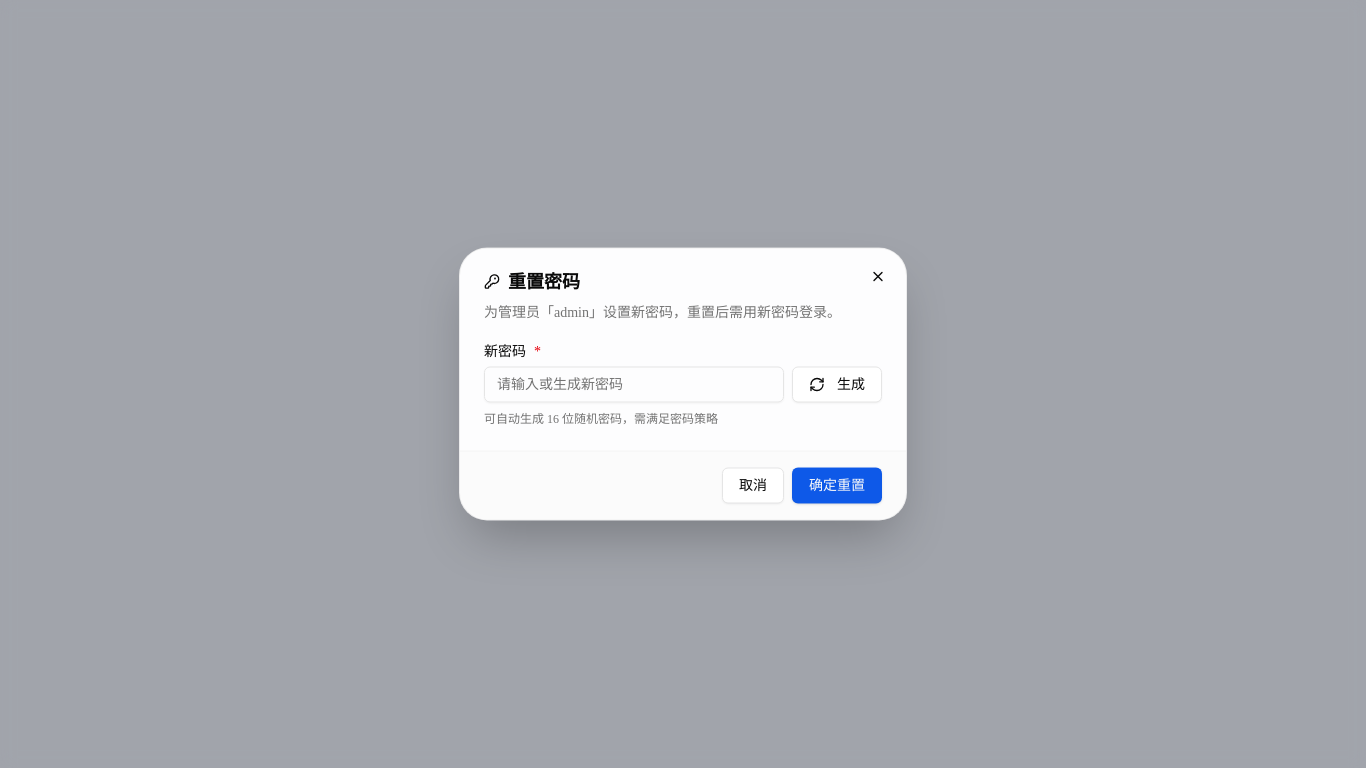
Test: ResetPasswordDialog › 「生成」填充输入框并出现「复制密码」
Click the button with test id "reset-password-generate" at (837, 384), box left=792, top=366, right=882, bottom=402
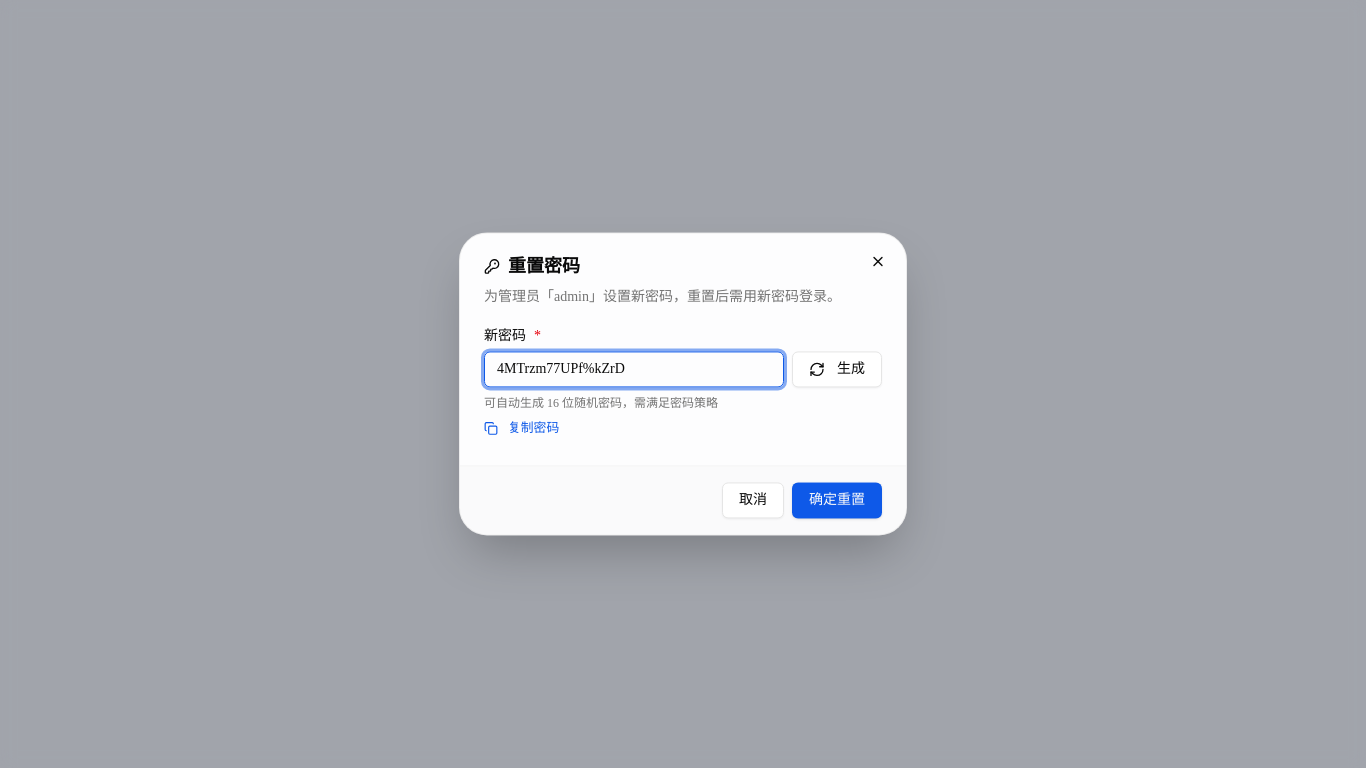
Check: the button with test id "reset-password-copy" is shown, box left=484, top=419, right=559, bottom=438
